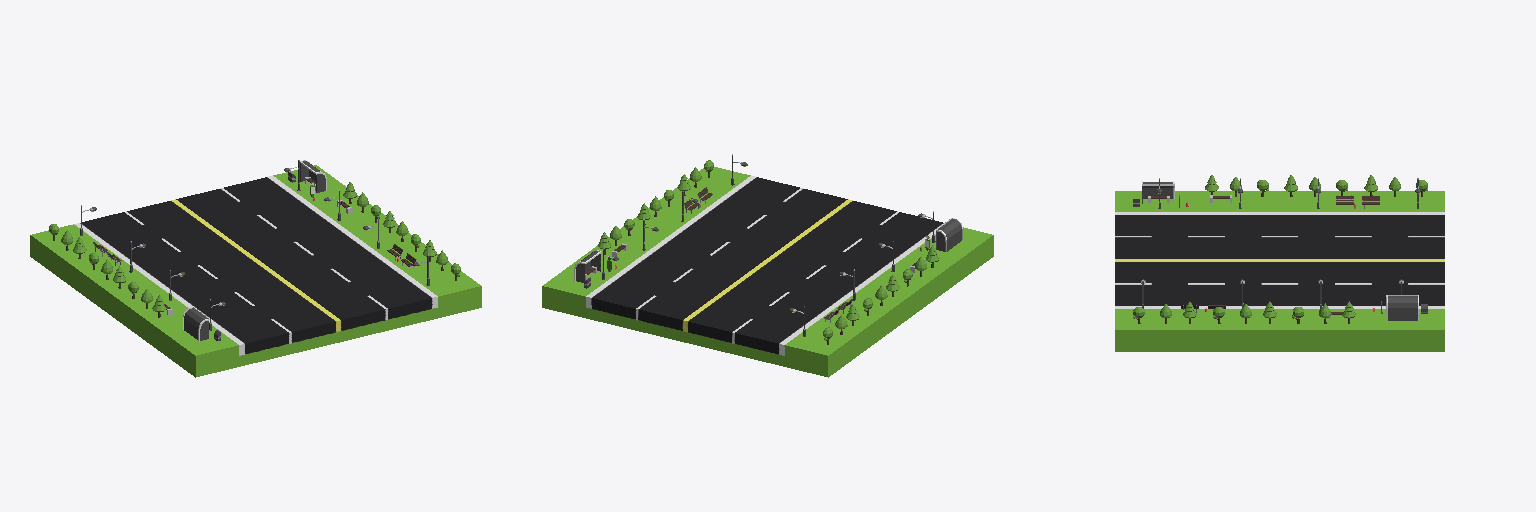
3 views of the same model, side by side, from view 1: azimuth 30°, elevation 25°; view 2: azimuth 150°, elevation 25°; view 3: azimuth 270°, elevation 25° (orthographic).
Visible parts, largest first — view 1: Object125; view 2: Object125; view 3: Object125.
Part boxes in pixels (x1,y1,x2,y2): Object125: (30,160,481,377); Object125: (542,154,993,377); Object125: (1115,175,1444,351).
Size of the model in its own units: 2252 by 394 by 2252.
1 materials, 1 textured.